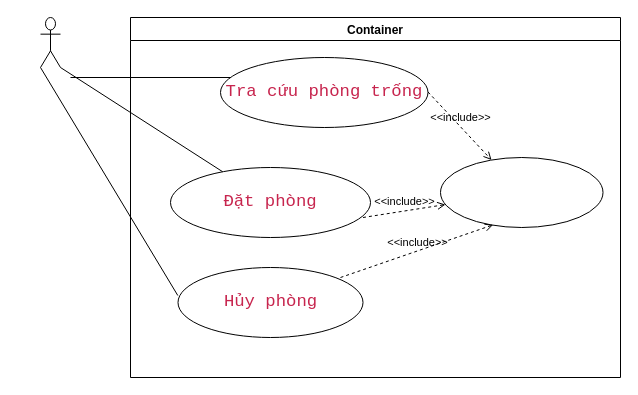
Some shapes in this 638 by 395 pixel diagram are drawn without their labels. Here are the shapes that lost their labels. From the top down, the centre of each, then its label:
(50,42): Khách Hàng
(521,192): Đăng Nhập
